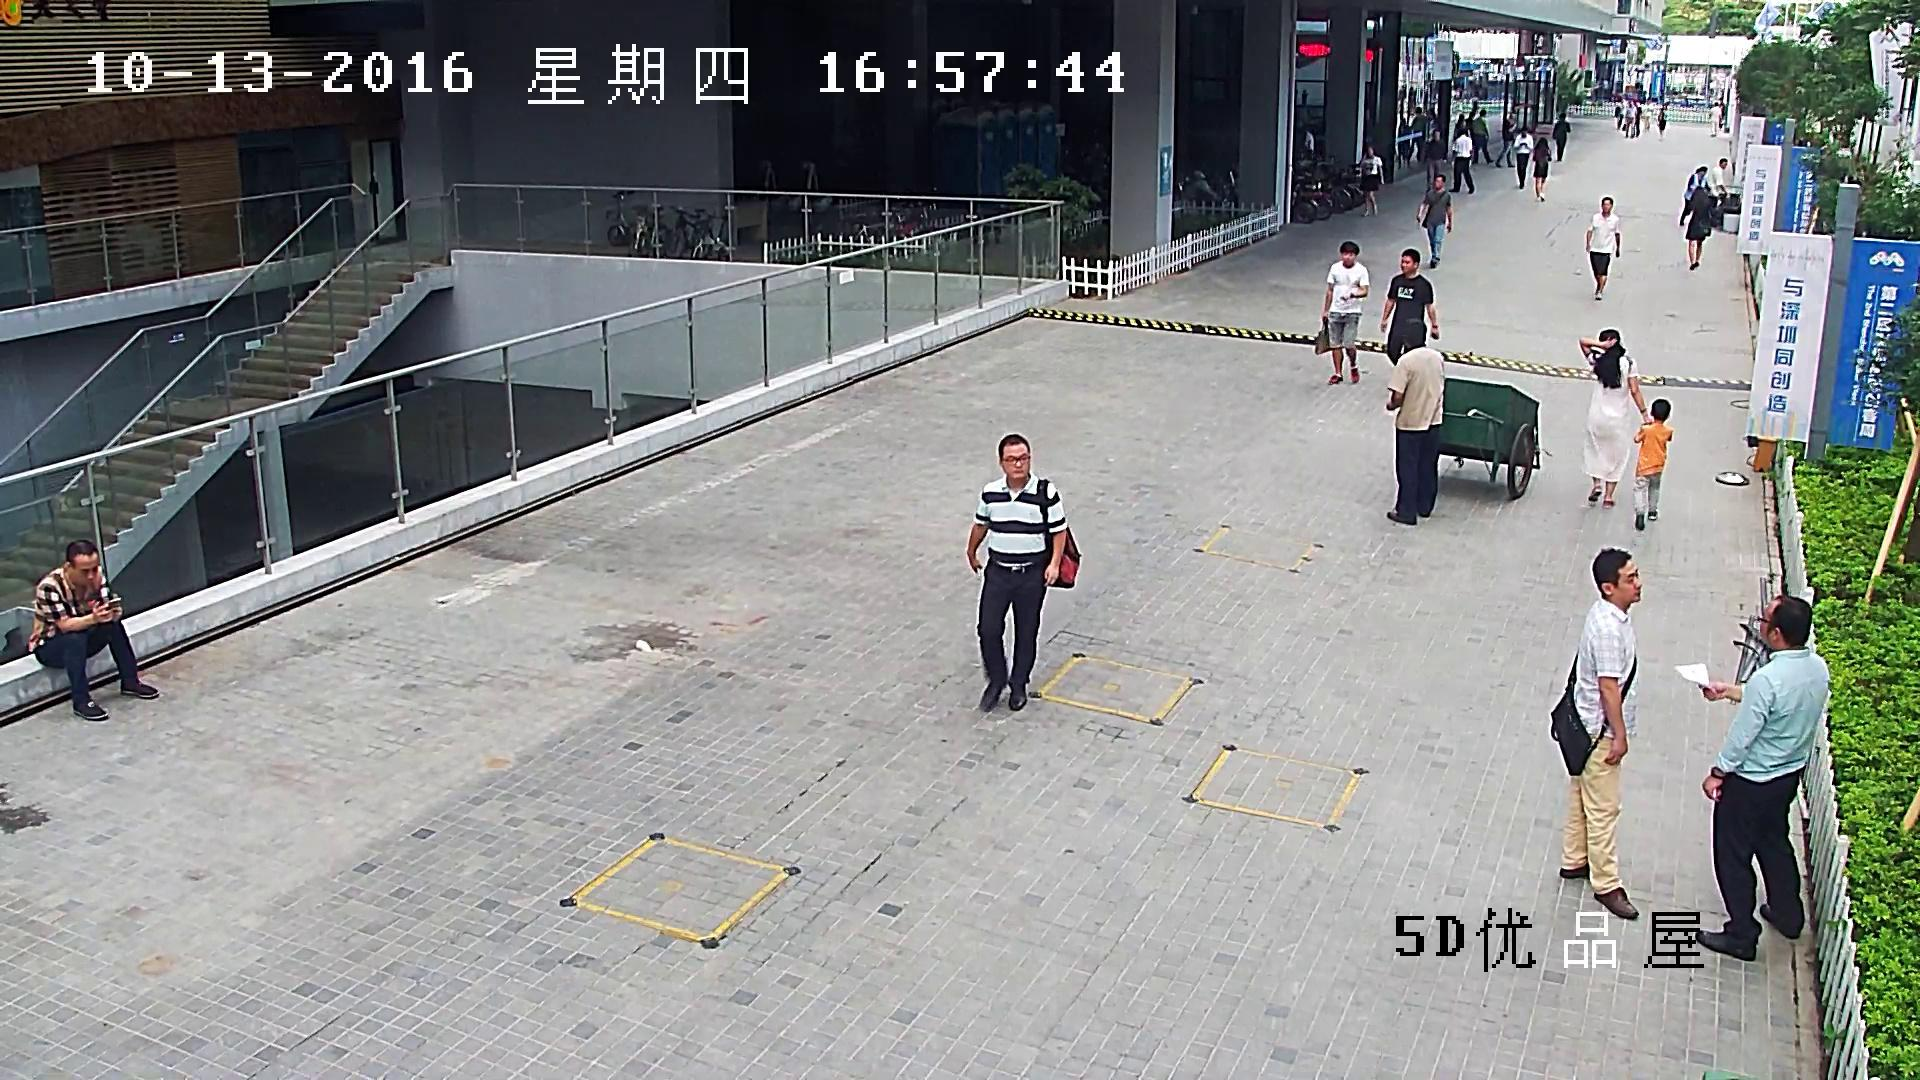person: (1673, 595, 1828, 961), (1550, 548, 1642, 917), (967, 434, 1080, 713), (28, 540, 160, 720), (1579, 329, 1651, 509), (1385, 318, 1443, 524), (1315, 241, 1369, 384), (1380, 248, 1439, 367), (1634, 399, 1673, 529), (1586, 196, 1620, 299), (1416, 174, 1452, 267), (1679, 186, 1711, 269), (1358, 145, 1384, 216), (1447, 129, 1475, 194), (1680, 166, 1710, 226), (1513, 125, 1533, 189), (1532, 137, 1552, 201), (1471, 110, 1493, 164), (1426, 128, 1443, 191), (1495, 115, 1515, 167), (1707, 158, 1727, 207), (1409, 106, 1425, 162), (1553, 113, 1570, 160), (1451, 113, 1465, 162), (1398, 117, 1410, 169), (1621, 103, 1637, 139), (1710, 101, 1721, 136), (1463, 112, 1475, 136), (1615, 97, 1623, 130), (1303, 128, 1314, 152), (1658, 107, 1666, 137), (1634, 101, 1641, 137)
